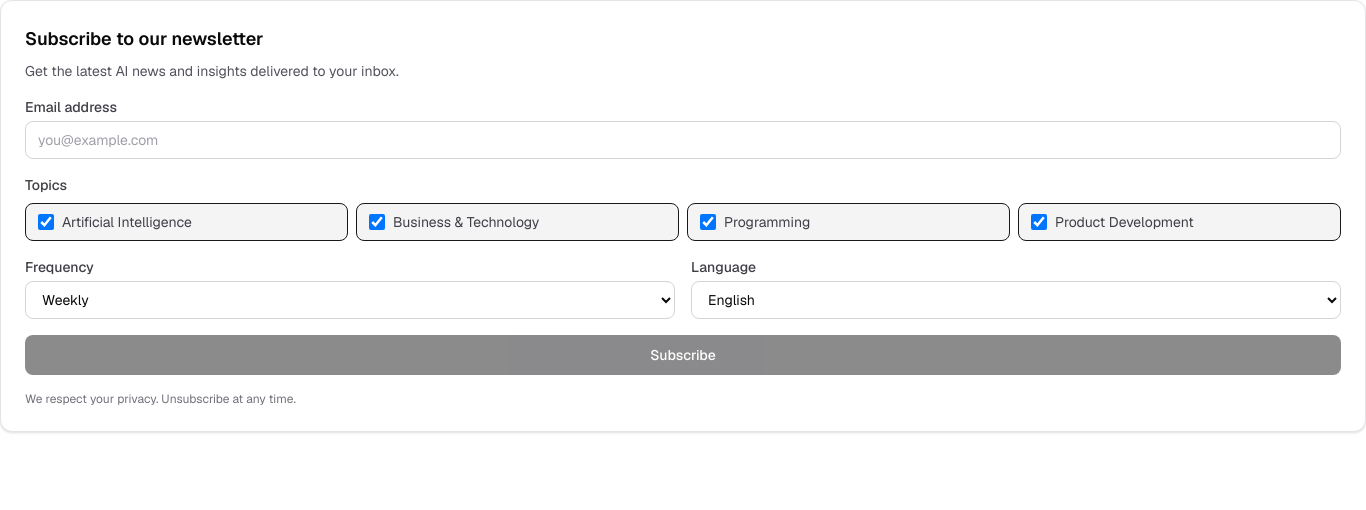
Test case: SubscribeForm › shows error message from API
The width and height of the screenshot is (1366, 510).
Type "user@example.com" into the field labelled "Email address" at x=683, y=140, box x1=25 y1=121 x2=1341 y2=159
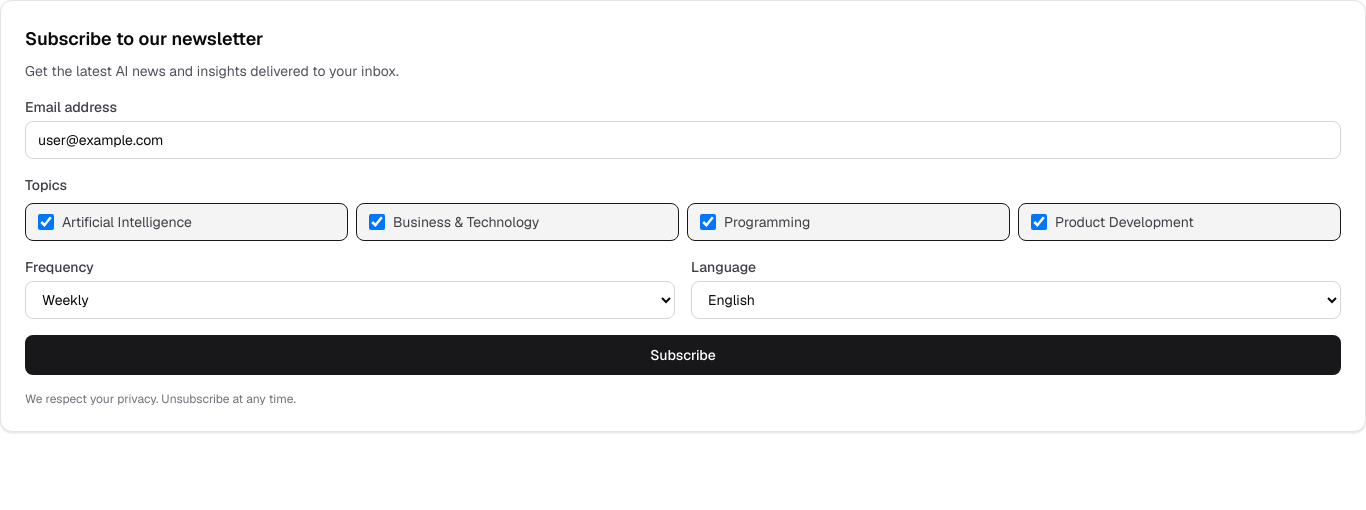
Click the button "Subscribe" at x=683, y=355, box x1=25 y1=335 x2=1341 y2=375
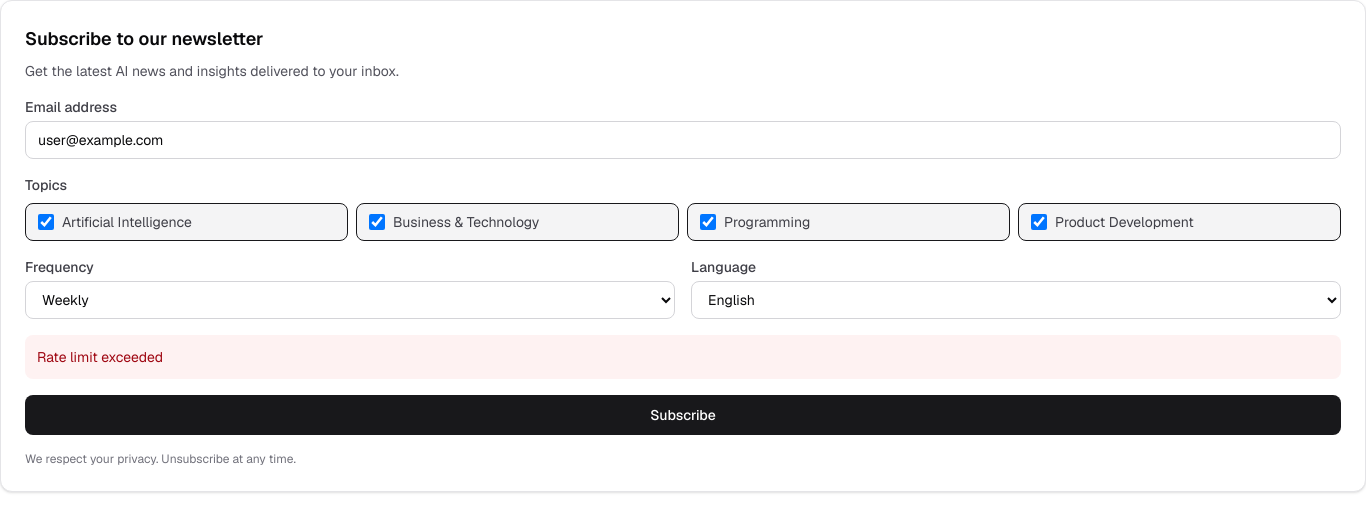
Expected: the text "Rate limit exceeded" is shown, x1=25 y1=335 x2=1341 y2=379
